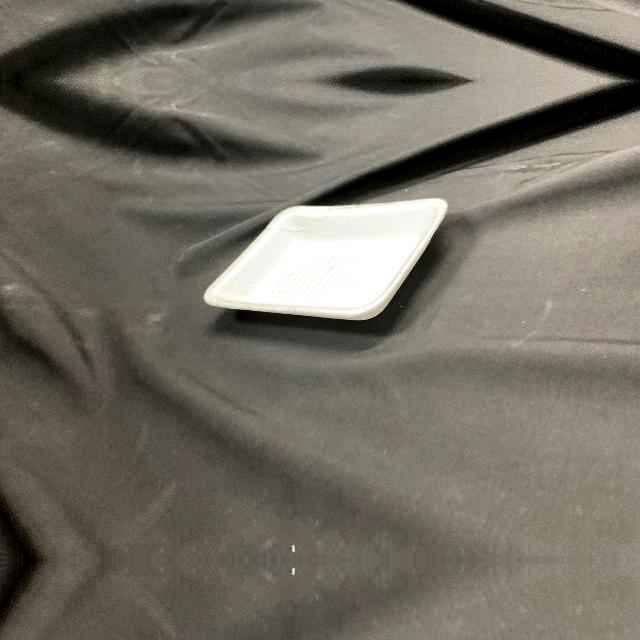Styrofoam: (202, 196, 448, 320), (204, 197, 448, 319)
